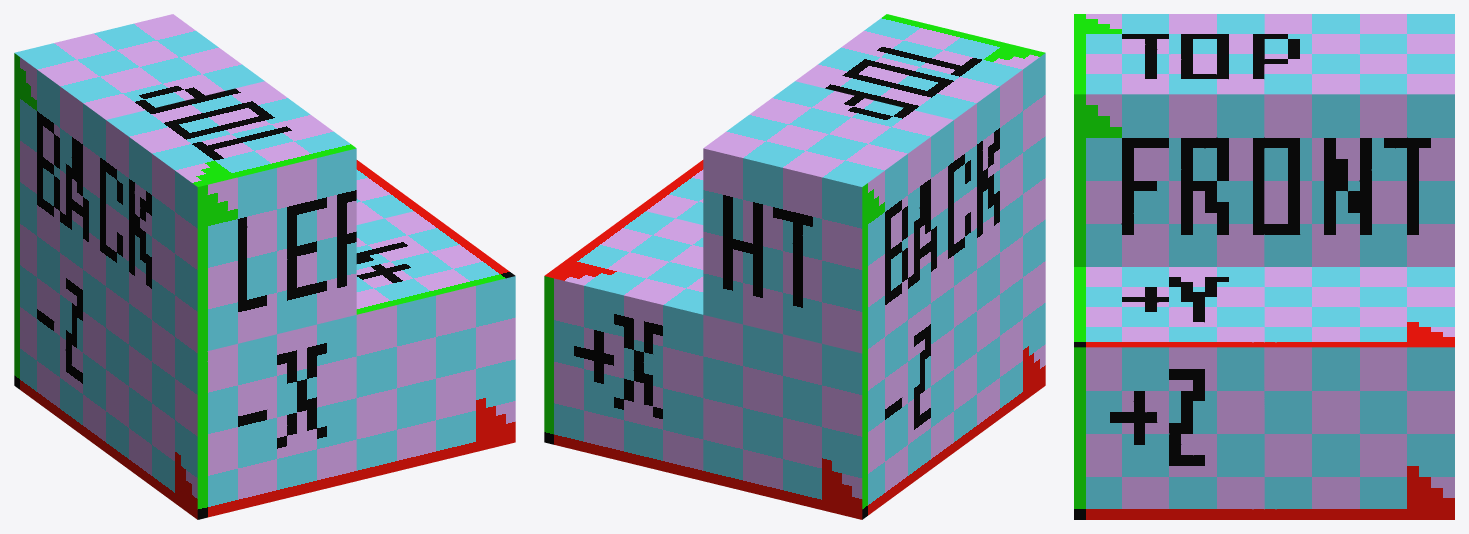
File: stairs.dae
3 views of the same model, side by side, from view 1: azimuth 30°, elevation 25°; view 2: azimuth 150°, elevation 25°; view 3: azimuth 270°, elevation 25° (orthographic). The views are drawn at different scales.
Parts seen in each view (by area): view 1: Cube; view 2: Cube; view 3: Cube.
Boxes of the visible parts, x1=… form: Cube: x1=14, y1=14, x2=515, y2=519; Cube: x1=544, y1=14, x2=1045, y2=519; Cube: x1=1074, y1=14, x2=1454, y2=519.
Bounding box in the file's own units: 1 × 1 × 1.
Materials: 6 (6 with a texture image).
